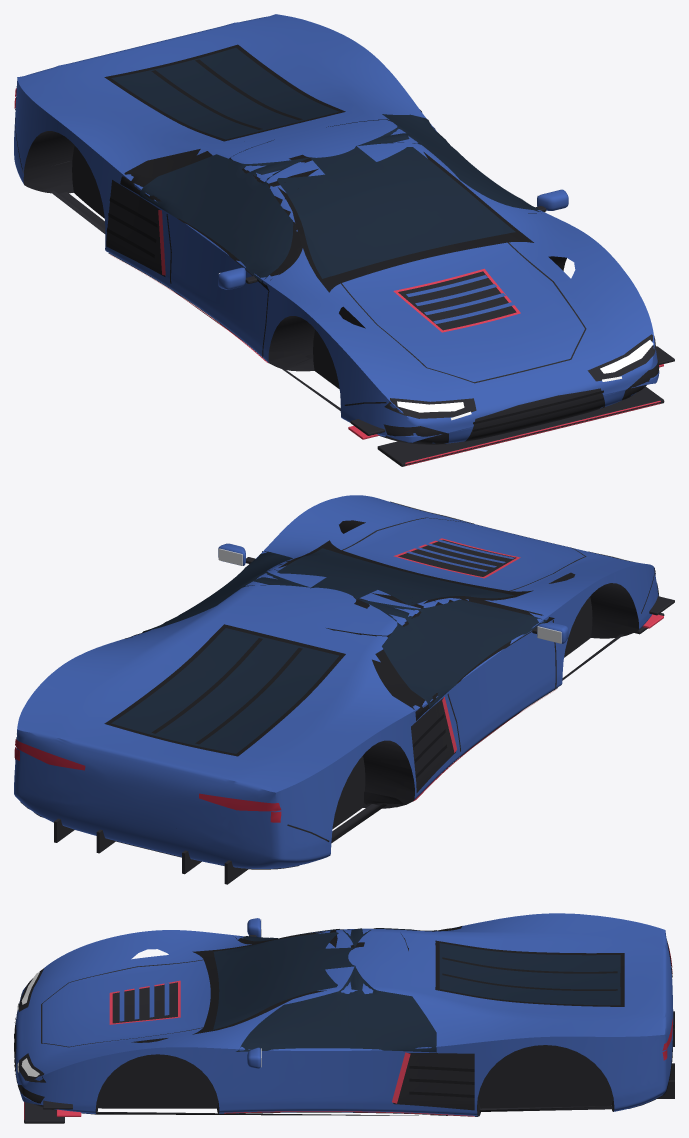
The model's file is zenith.glb.
3 renders of one model, top to bottom at view 1: azimuth 30°, elevation 25°; view 2: azimuth 150°, elevation 25°; view 3: azimuth 270°, elevation 25°, orthographic. The views are drawn at different scales.
Parts seen in each view (by area): view 1: body; view 2: body; view 3: body.
Boxes of the visible parts, bbox=[...] form: body: bbox=[14, 14, 674, 466]; body: bbox=[14, 495, 674, 884]; body: bbox=[14, 913, 674, 1123].
Size of the model in its own units: 2.44 by 0.9255 by 4.85.
